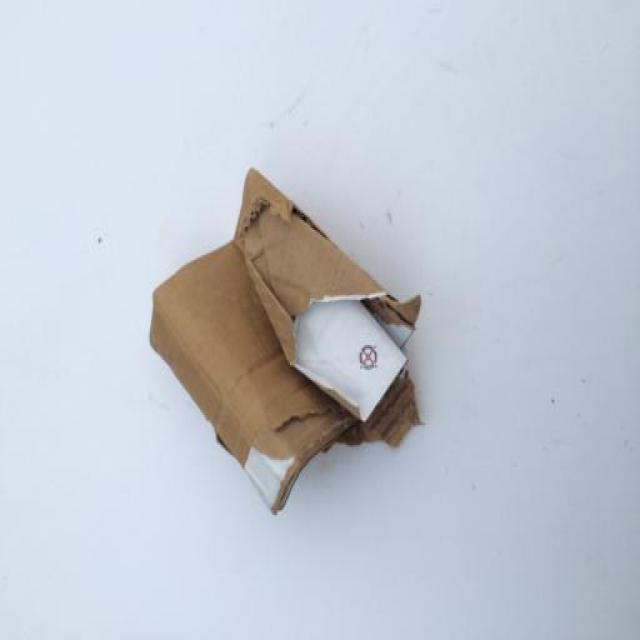cardboard: (124, 151, 439, 536)
